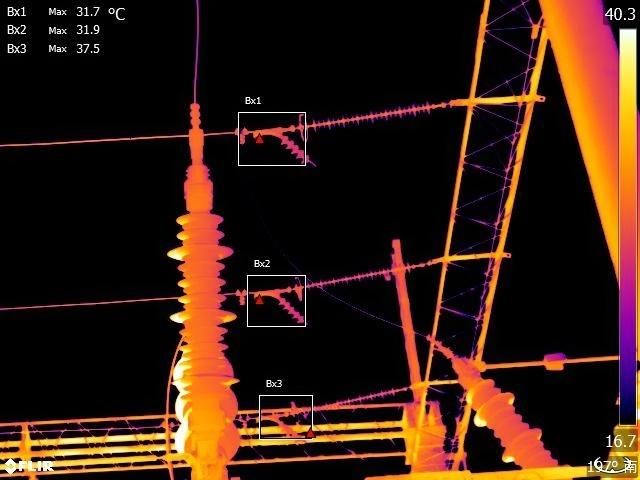insulator: (294, 95, 444, 138), (296, 261, 422, 299), (286, 382, 410, 420)
post insulator: (170, 204, 240, 414), (465, 375, 567, 471)
switch: (452, 337, 618, 377)
tube: (272, 129, 311, 164), (276, 291, 306, 327)
